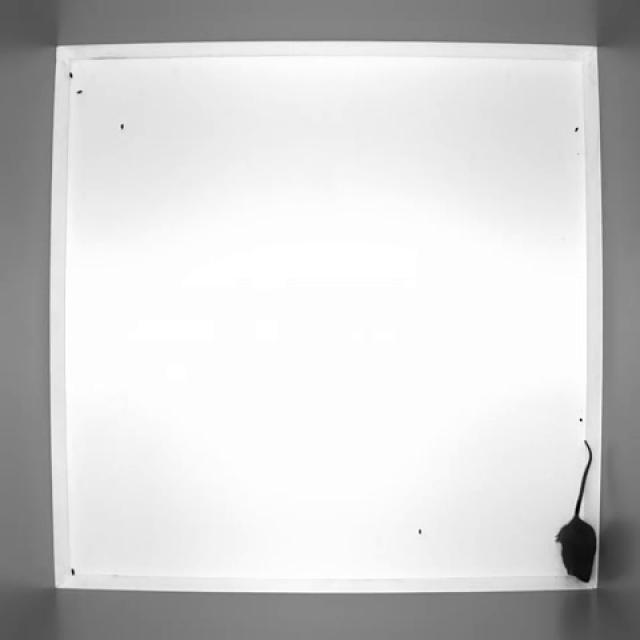rat: (551, 436, 600, 586)
